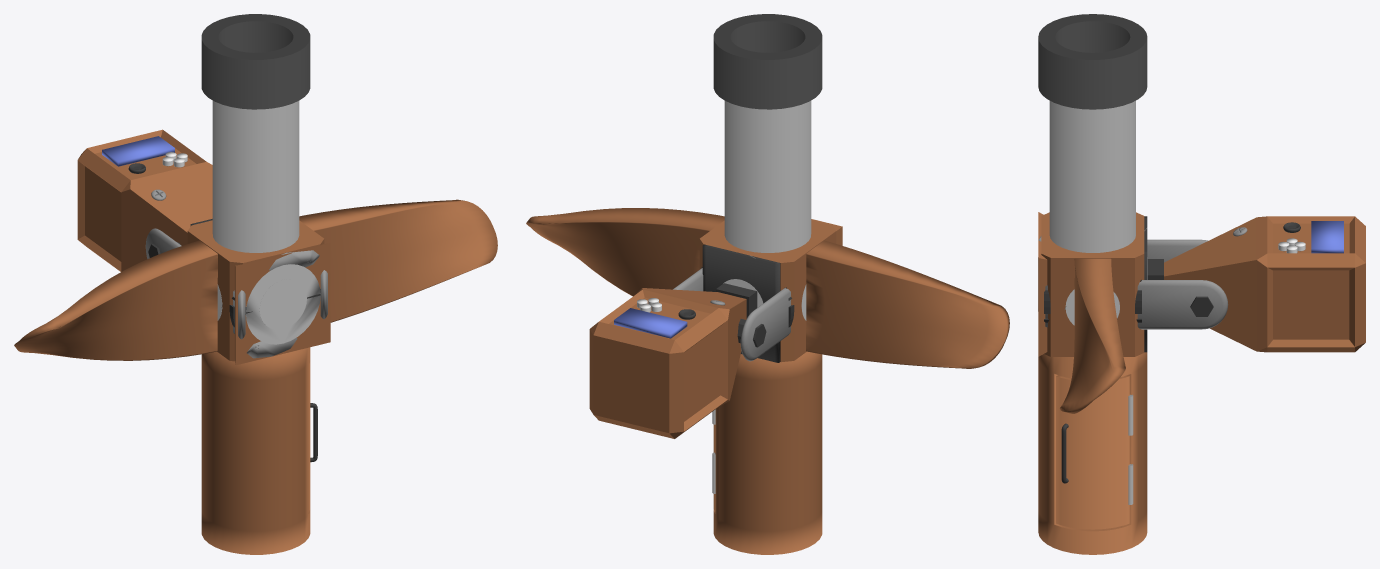
File: ModulesFull.fbx
3 renders of one model, left to right at view 1: azimuth 30°, elevation 25°; view 2: azimuth 150°, elevation 25°; view 3: azimuth 270°, elevation 25°, orthographic.
Visible parts, largest first — view 1: Cylinder.003, Cylinder.027, Cylinder.009, Cylinder.014, Cylinder.001, Cylinder.016, Circle.003; view 2: Cylinder.003, Cylinder.027, Cylinder.009, Cylinder.014, Cube.003, Cylinder.016; view 3: Cylinder.003, Cylinder.009, Cylinder.027, Cylinder.014, Cylinder.016, Cylinder.001.
Part boxes in pixels (box(x1,y1,x2,y2)): Cylinder.003: box(201, 14, 317, 554); Cylinder.027: box(14, 199, 497, 360); Cylinder.009: box(77, 129, 330, 365); Cylinder.014: box(187, 220, 324, 361); Cylinder.001: box(229, 279, 306, 329); Cylinder.016: box(145, 228, 327, 339); Circle.003: box(221, 250, 319, 358); Cylinder.003: box(712, 14, 822, 554); Cylinder.027: box(526, 208, 1009, 368); Cylinder.009: box(589, 219, 842, 438); Cylinder.014: box(699, 220, 836, 362); Cube.003: box(702, 244, 780, 362); Cylinder.016: box(673, 268, 790, 361); Cylinder.003: box(1038, 14, 1147, 554); Cylinder.009: box(1038, 212, 1365, 356); Cylinder.027: box(1060, 258, 1125, 413); Cylinder.014: box(1041, 212, 1144, 356); Cylinder.016: box(1045, 239, 1228, 329); Cylinder.001: box(1038, 257, 1147, 322).
Size of the model in its own units: 1001 by 1000 by 600.
